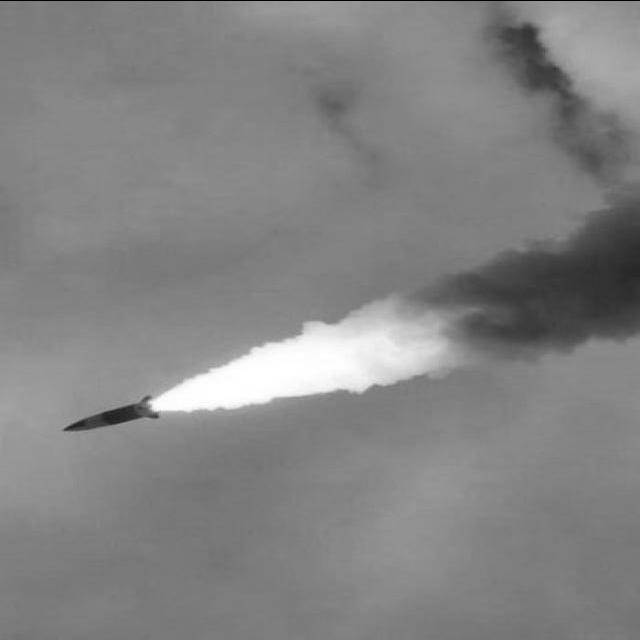missile: (46, 396, 172, 438)
